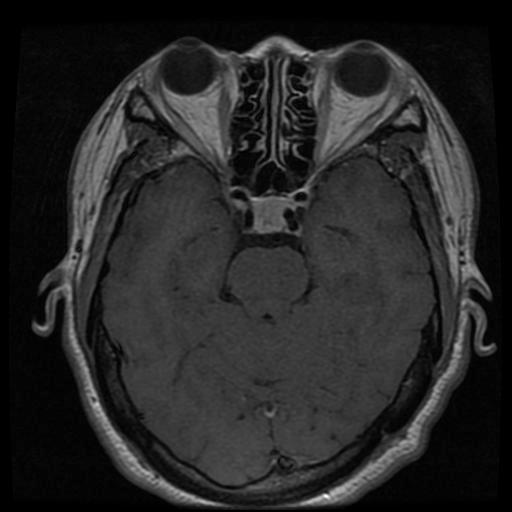Tumour-Pituitary: (222, 185, 315, 243)
